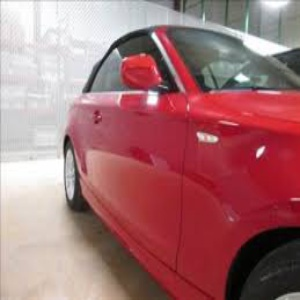door_scratch: (131, 113, 271, 169)
